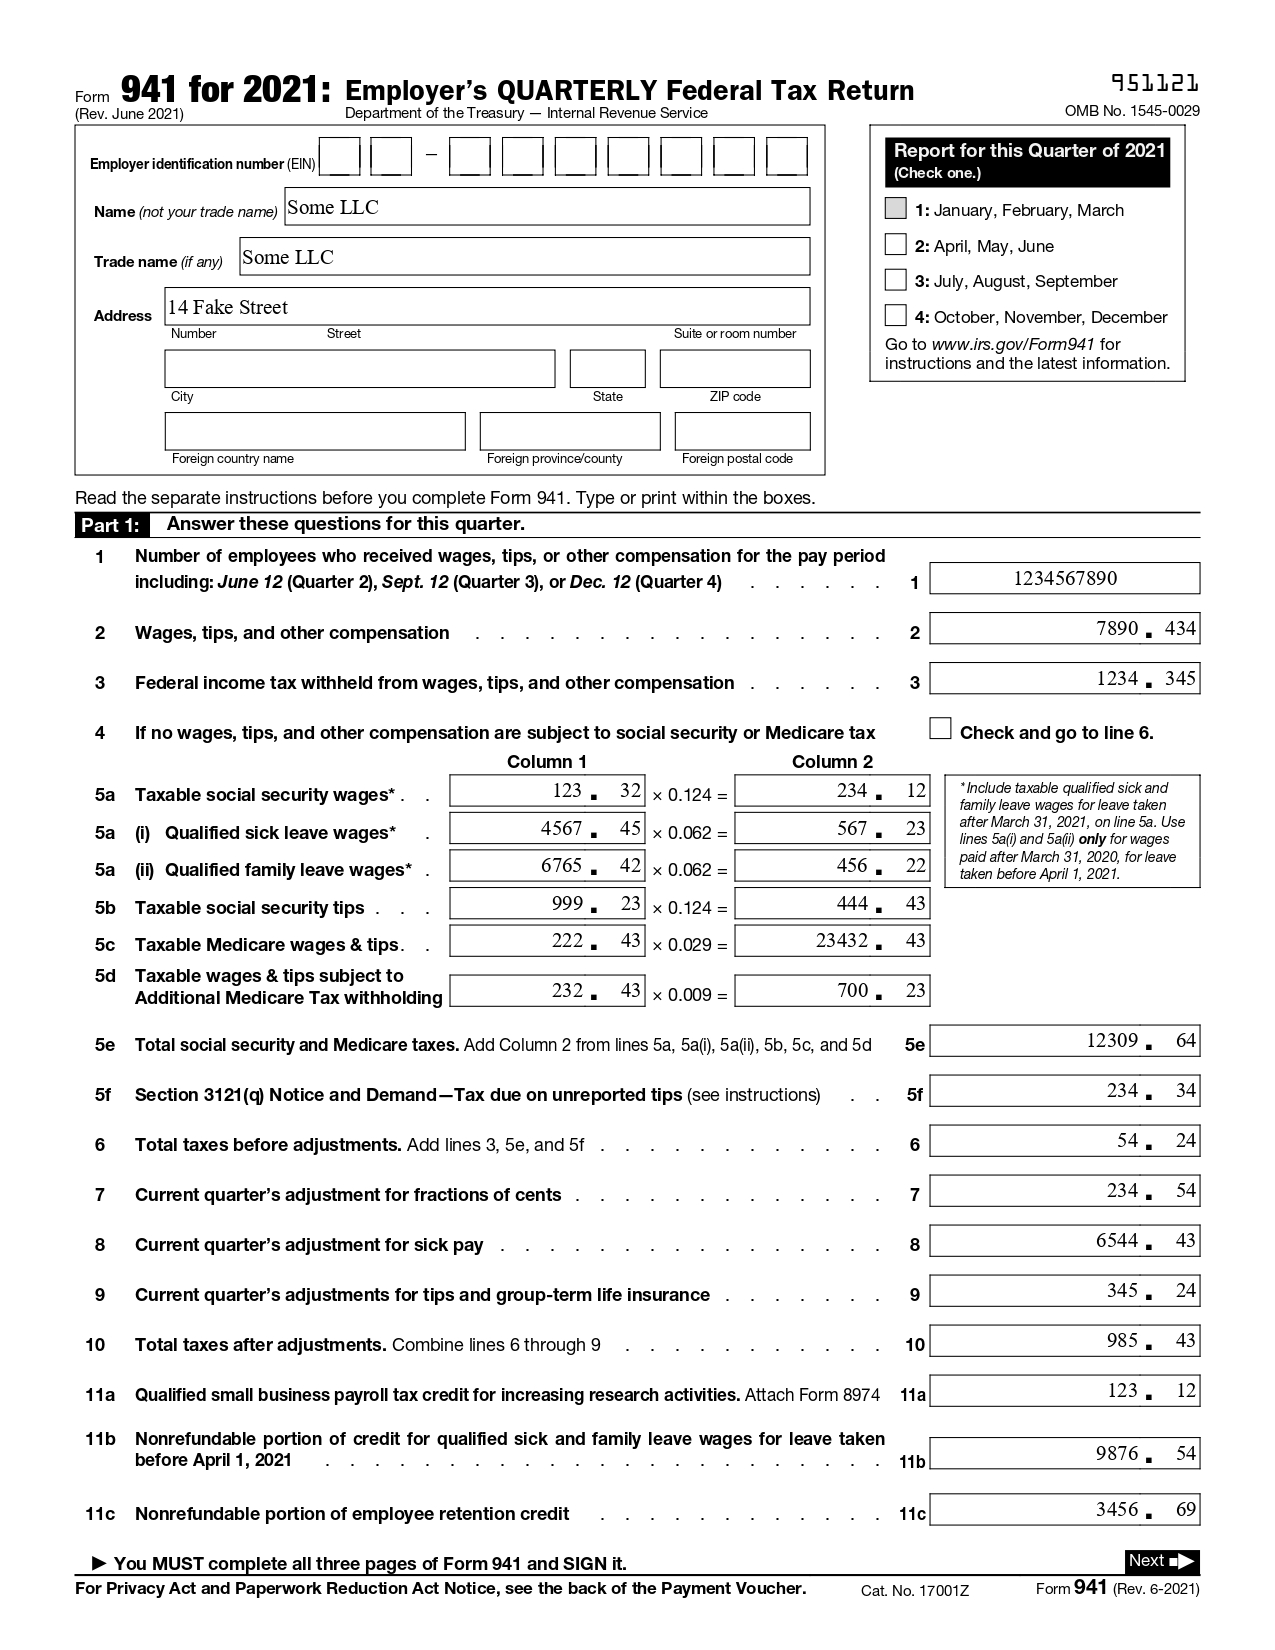form: (62, 120, 844, 485)
table: (69, 545, 1222, 1540)
